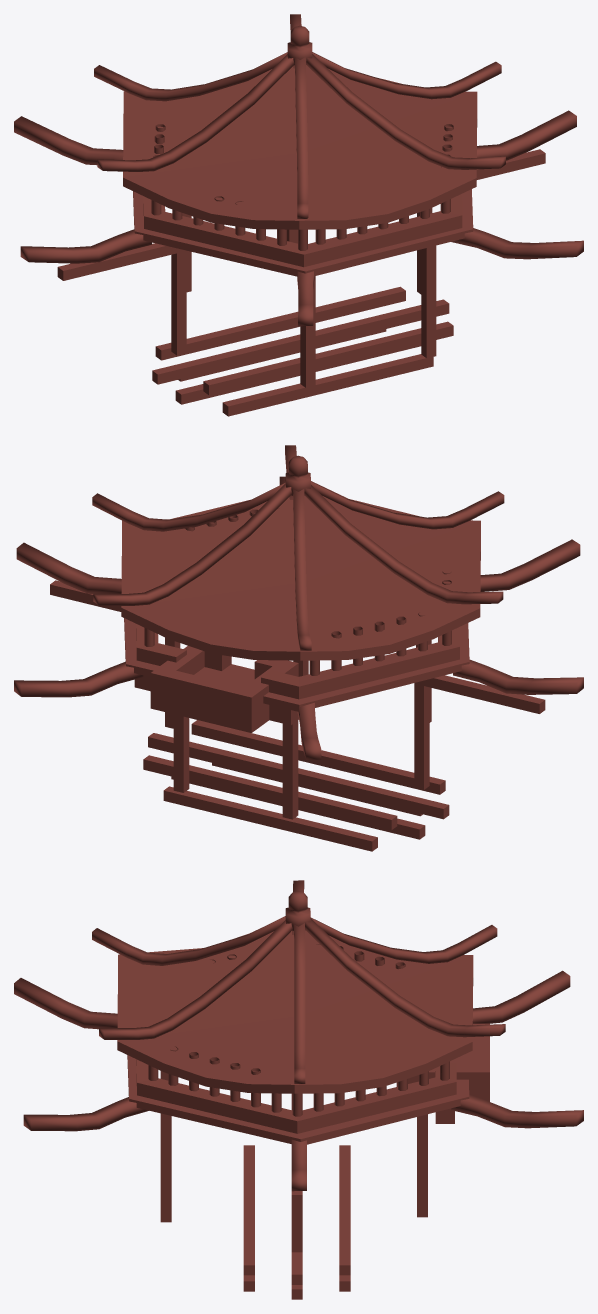
File: bois 04.fbx
The picture shows the model from 3 angles, top to bottom: view 1: azimuth 30°, elevation 25°; view 2: azimuth 150°, elevation 25°; view 3: azimuth 270°, elevation 25°; orthographic projection.
Visible parts, largest first — view 1: Circle.076, Cube.367, Cube.365, Plane.430, Circle.080, Circle.079, Plane.310, Plane.601, Plane.855, Plane.857, Cube.368, Plane.854 (+5 smaller); view 2: Circle.076, Plane.210, Cube.367, Plane.430, Cube.368, Circle.080, Cube.365, Plane.310, Cube.366, Plane.601, Circle.079, Plane.856 (+5 smaller); view 3: Circle.076, Cube.367, Circle.080, Cube.368, Circle.079, Cube.365, Cube.366, Plane.430, Plane.210, Plane.855, Circle.081, Plane.856 (+3 smaller).
Part boxes in pixels (x1=…): Circle.076: x1=123, y1=65, x2=477, y2=229; Cube.367: x1=94, y1=52, x2=505, y2=171; Cube.365: x1=14, y1=110, x2=583, y2=263; Plane.430: x1=155, y1=286, x2=453, y2=395; Circle.080: x1=143, y1=194, x2=462, y2=267; Circle.079: x1=133, y1=189, x2=473, y2=276; Plane.310: x1=152, y1=299, x2=449, y2=384; Plane.601: x1=178, y1=329, x2=433, y2=416; Plane.855: x1=300, y1=245, x2=436, y2=387; Plane.857: x1=57, y1=149, x2=545, y2=280; Cube.368: x1=290, y1=14, x2=308, y2=218; Plane.854: x1=171, y1=208, x2=432, y2=355; Circle.076: x1=121, y1=481, x2=480, y2=660; Plane.210: x1=134, y1=646, x2=298, y2=732; Cube.367: x1=92, y1=445, x2=503, y2=650; Plane.430: x1=143, y1=720, x2=445, y2=830; Cube.368: x1=93, y1=481, x2=504, y2=605; Circle.080: x1=136, y1=624, x2=459, y2=699; Cube.365: x1=16, y1=476, x2=583, y2=759; Plane.310: x1=148, y1=733, x2=449, y2=819; Cube.366: x1=14, y1=539, x2=580, y2=697; Plane.601: x1=163, y1=763, x2=422, y2=851; Circle.079: x1=124, y1=618, x2=469, y2=711; Plane.856: x1=173, y1=714, x2=298, y2=819; Circle.076: x1=117, y1=928, x2=473, y2=1093; Cube.367: x1=99, y1=880, x2=497, y2=1083; Circle.080: x1=136, y1=1059, x2=456, y2=1133; Cube.368: x1=92, y1=916, x2=505, y2=1037; Circle.079: x1=127, y1=1055, x2=469, y2=1144; Cube.365: x1=23, y1=970, x2=570, y2=1191; Cube.366: x1=14, y1=978, x2=583, y2=1128; Plane.430: x1=243, y1=1145, x2=350, y2=1275; Plane.210: x1=396, y1=1023, x2=489, y2=1123; Plane.855: x1=160, y1=1071, x2=171, y2=1222; Circle.081: x1=292, y1=1061, x2=449, y2=1116; Plane.856: x1=417, y1=1114, x2=427, y2=1217.
Bounding box in the file's own units: 33.05 × 19.76 × 29.51.
